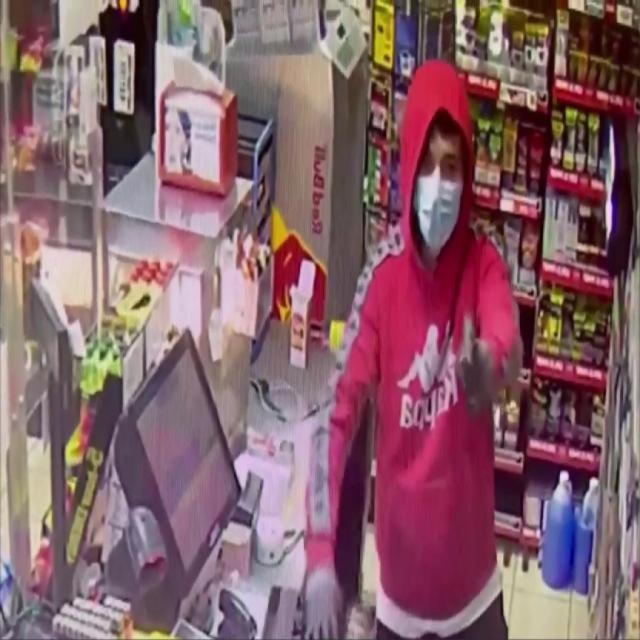pistol: (458, 317, 484, 414)
